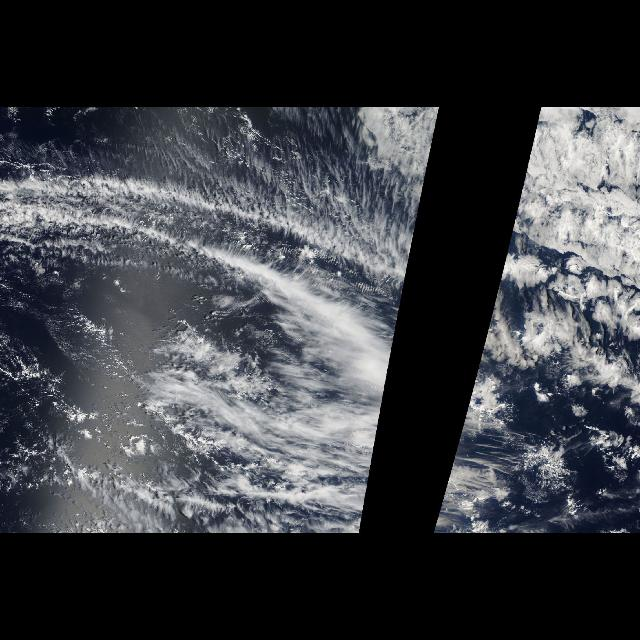Fish: (9, 172, 428, 334), (486, 276, 500, 332)
Sugar: (1, 113, 359, 169)
